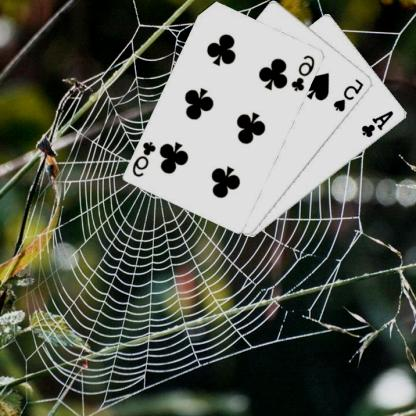5S: (333, 76, 367, 113)
6C: (290, 52, 318, 92), (132, 138, 159, 178)
AC: (361, 108, 397, 139)
